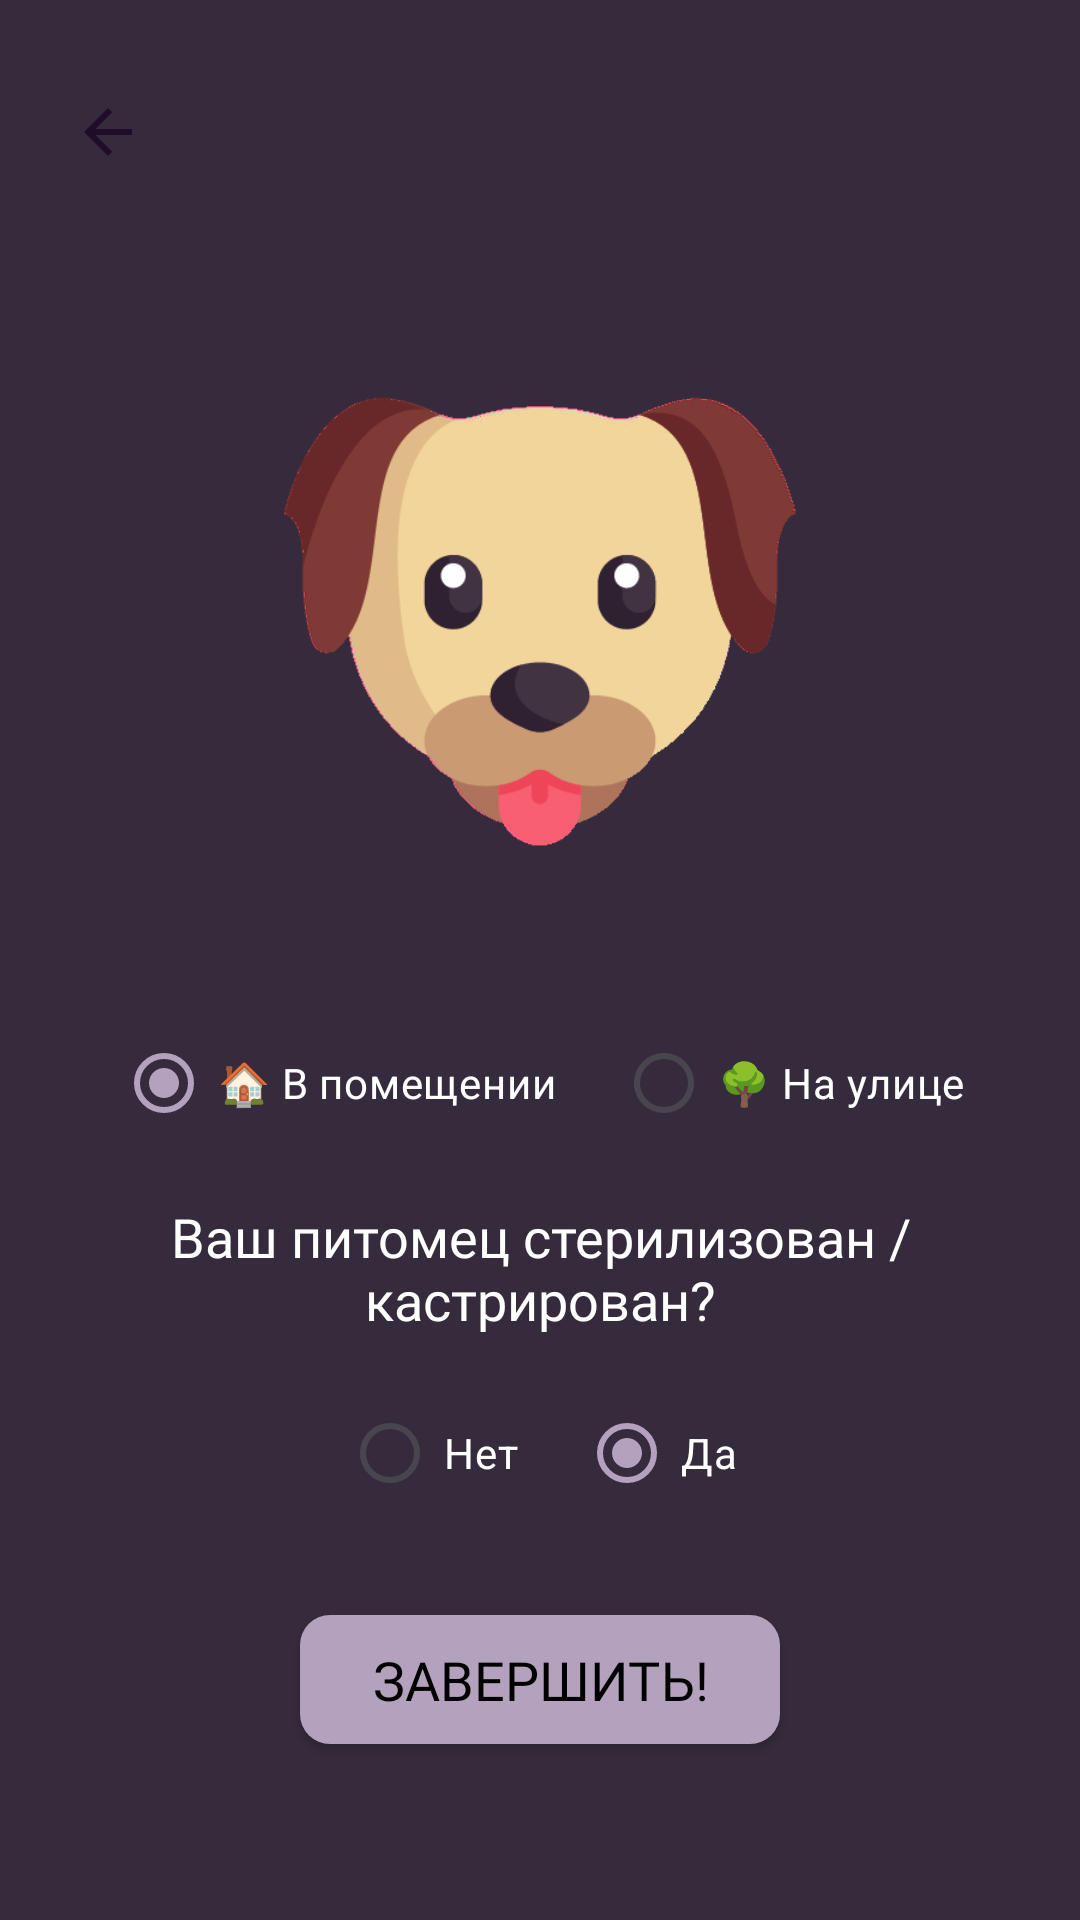

Where to tap for icons on this 1080 x 1920 app screen, as [x,y]:
arrow back: [108,132]
